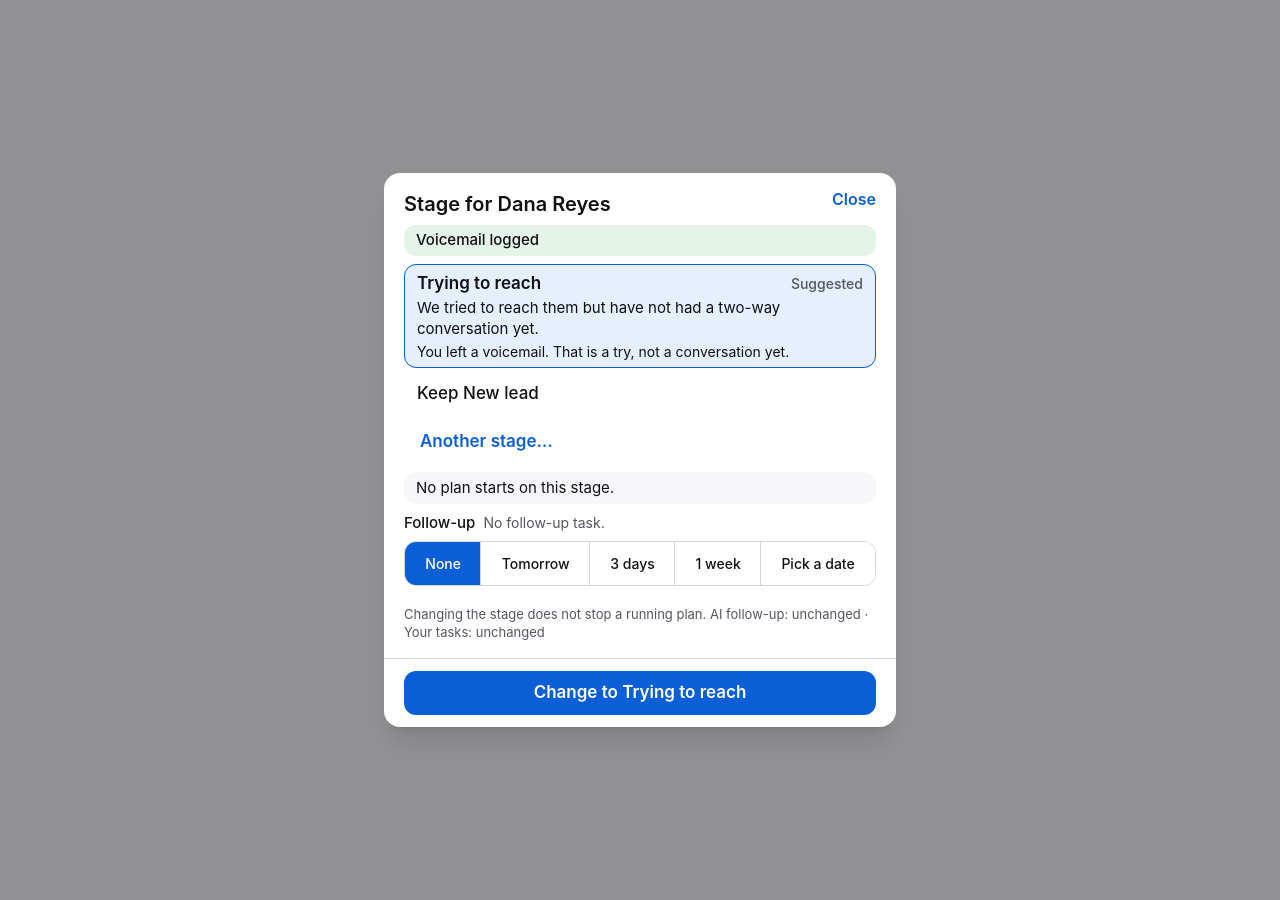
Test case: the stage step after an outcome › a voicemail on a new lead: what was saved; "Trying to reach" suggested with its definition and why, preselected; "Keep New lead"; the preview of the selected ch
The image size is (1280, 900).
Check: the message reads "Voicemail logged", box x1=416 y1=230 x2=539 y2=249
Check: the radio button that starts with "Trying to reach" is checked, box x1=404 y1=264 x2=876 y2=368
Step 1. Click the button "Change to Trying to reach" → (640,693), box x1=404 y1=671 x2=876 y2=715
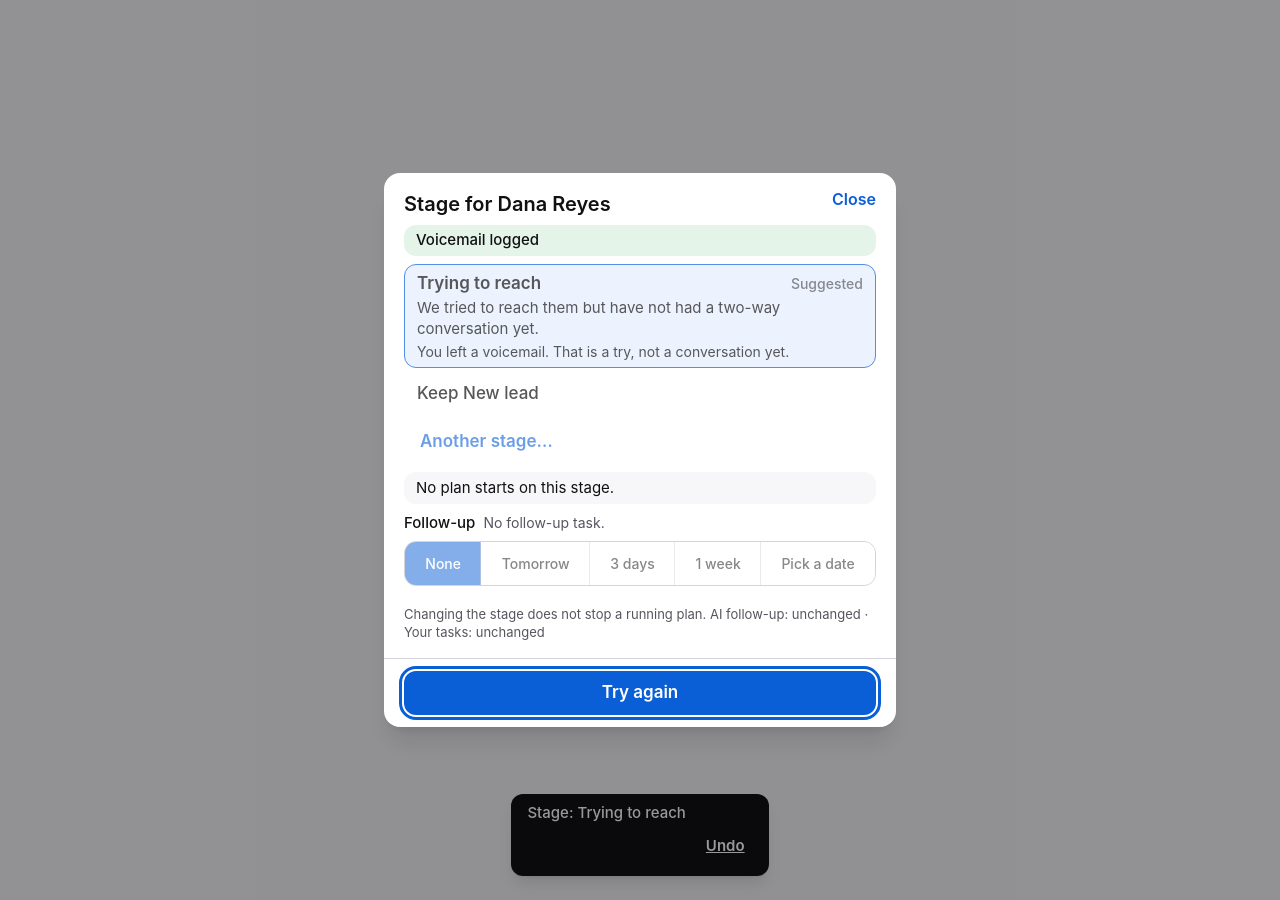
Check: the text "Stage: Trying to reach" is shown, box x1=527 y1=802 x2=686 y2=822
